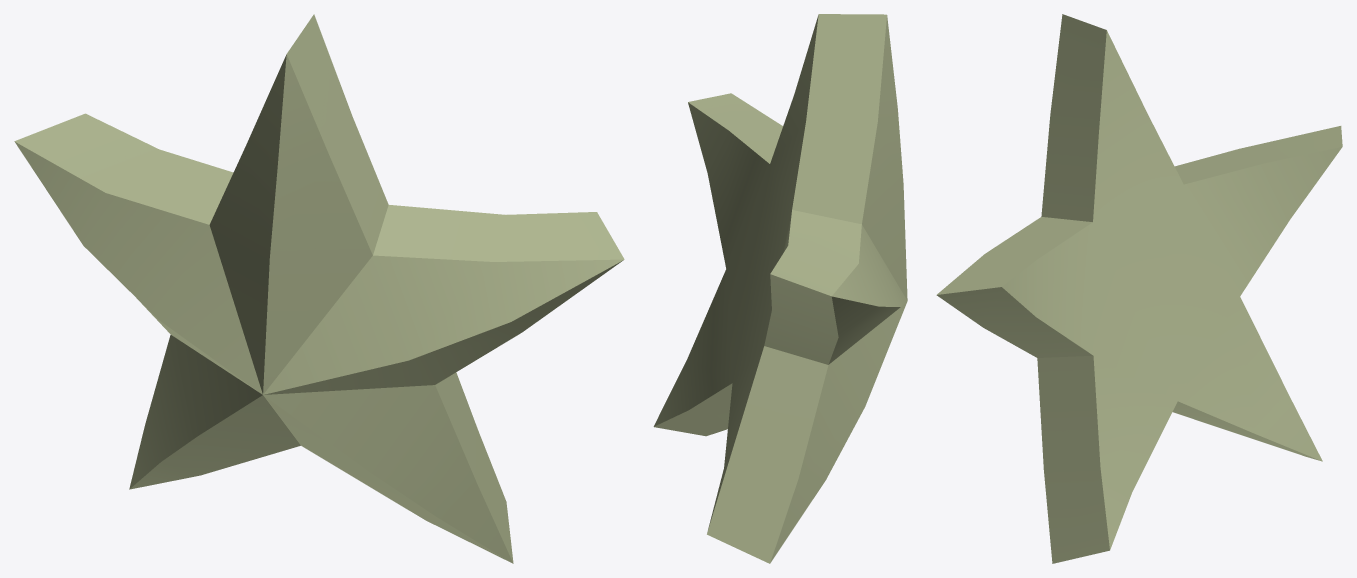
File: TL3_Frame_Star.001 3.glb
3 renders of one model, left to right at view 1: azimuth 30°, elevation 25°; view 2: azimuth 150°, elevation 25°; view 3: azimuth 270°, elevation 25°, orthographic. The views are drawn at different scales.
Visible parts, largest first — view 1: TL3_Frame_Star.001; view 2: TL3_Frame_Star.001; view 3: TL3_Frame_Star.001.
Boxes of the visible parts, bbox=[...] form: TL3_Frame_Star.001: bbox=[14, 14, 624, 563]; TL3_Frame_Star.001: bbox=[653, 14, 907, 563]; TL3_Frame_Star.001: bbox=[936, 14, 1342, 563].
Bounding box in the file's own units: 0.3813 × 0.5477 × 0.432.
